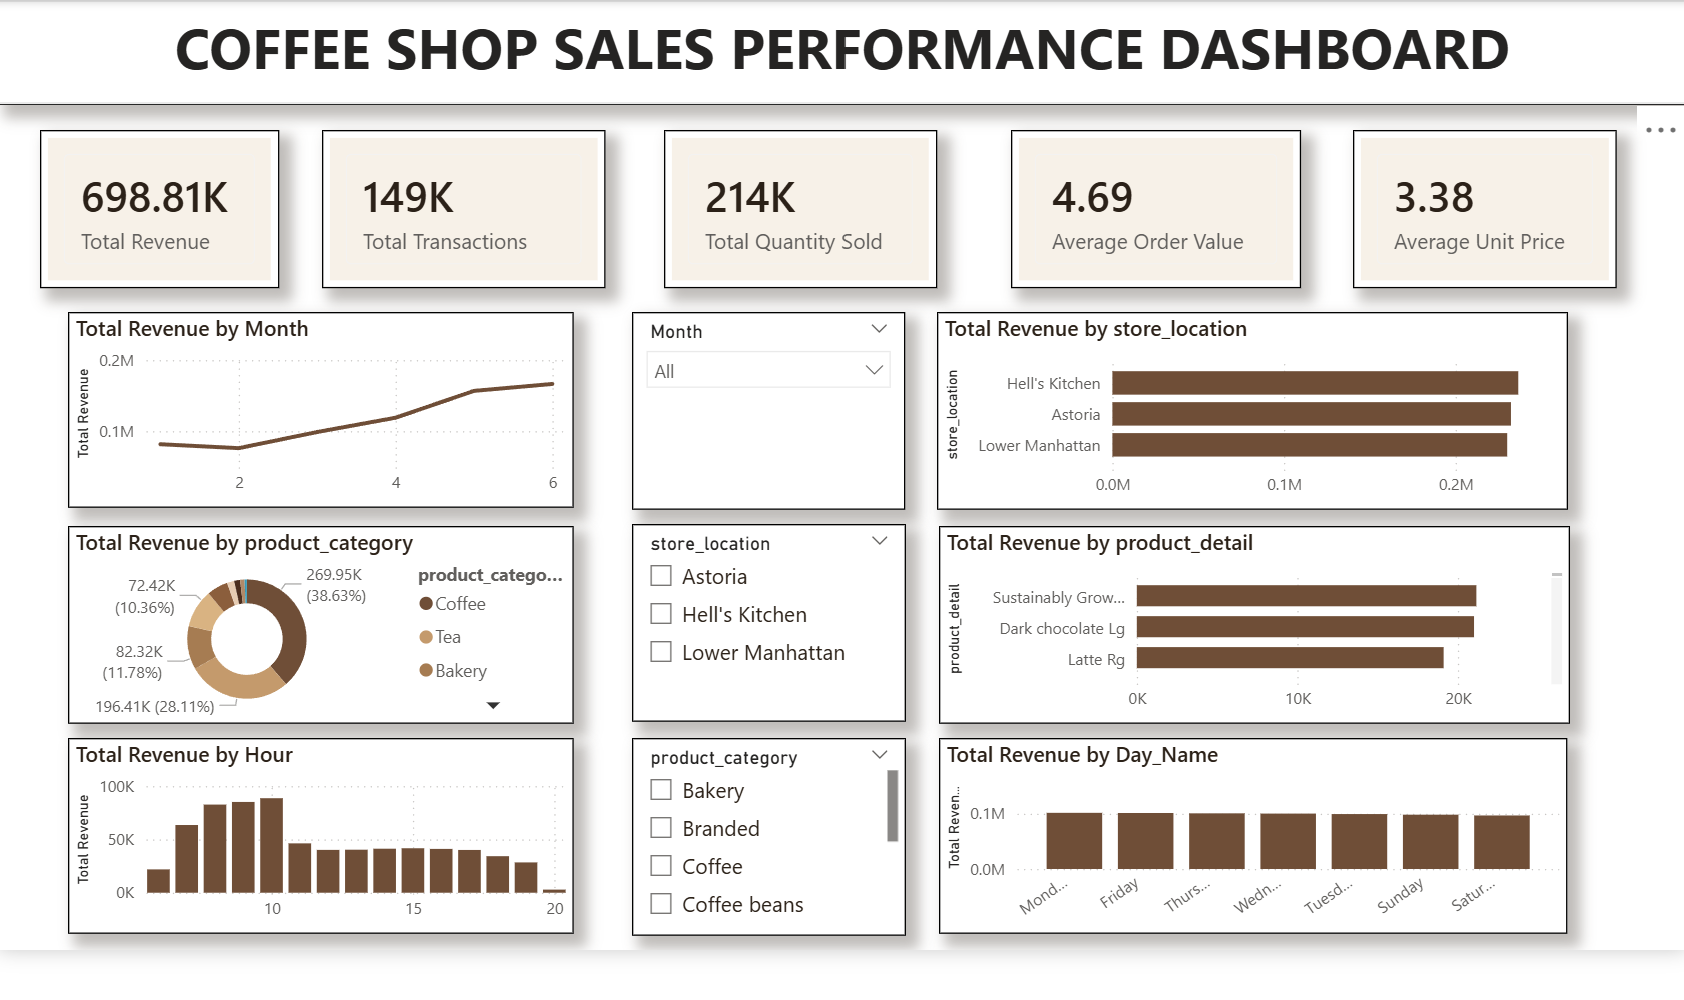

Layout of this report page (visuals, bound fields, positions):
{"tool":"powerbi","page":{"name":"Page 1","canvas":[1280,720],"ordinal":0},"visuals":[{"type":"textbox","box":[0,0,1280,79.5],"z":0},{"type":"cardVisual","fields":{"Data":["Transactions.Total Revenue"]},"box":[31.7,98.3,181.7,120],"z":1000},{"type":"cardVisual","fields":{"Data":["Transactions.Total Transactions"]},"box":[245,98.3,215,120],"z":2000},{"type":"cardVisual","fields":{"Data":["Transactions.Total Quantity Sold"]},"box":[505,98.3,206.7,120],"z":3000},{"type":"cardVisual","fields":{"Data":["Transactions.Average Order Value"]},"box":[766.7,98.3,220,120],"z":4000},{"type":"cardVisual","fields":{"Data":["Transactions.Average Unit Price"]},"box":[1026.7,98.3,200,120],"z":5000},{"type":"lineChart","fields":{"Category":["Transactions.Month"],"Y":["Transactions.Total Revenue"]},"box":[53.3,236.7,383.3,148.3],"z":6000},{"type":"clusteredBarChart","fields":{"Category":["Transactions.store_location"],"Y":["Transactions.Total Revenue"]},"box":[711.7,236.7,478.3,150],"z":7000},{"type":"donutChart","fields":{"Category":["Transactions.product_category"],"Y":["Transactions.Total Revenue"]},"box":[53.3,398.3,383.3,150],"z":8000},{"type":"clusteredBarChart","fields":{"Category":["Transactions.product_detail"],"Y":["Transactions.Total Revenue"]},"box":[713.3,398.3,478.3,150],"z":9000},{"type":"columnChart","fields":{"Category":["Transactions.Hour"],"Y":["Transactions.Total Revenue"]},"box":[53.3,560,383.3,148.3],"z":10000},{"type":"columnChart","fields":{"Y":["Transactions.Total Revenue"],"Category":["Transactions.Day_Name"]},"box":[713.3,560,476.7,148.3],"z":11000},{"type":"slicer","fields":{"Values":["Transactions.Month"]},"box":[480,236.7,206.7,150],"z":12000},{"type":"slicer","fields":{"Values":["Transactions.store_location"]},"box":[480,398,207,150],"z":13000},{"type":"slicer","fields":{"Values":["Transactions.product_category"]},"box":[480,560,207,150],"z":14000}]}

Visuals, with their boxes in screenshot pixels (x1, y1, x2, y2):
textbox: {"x1": 9, "y1": 4, "x2": 1669, "y2": 108}
cardVisual - Transactions.Total Revenue: {"x1": 50, "y1": 132, "x2": 286, "y2": 288}
cardVisual - Transactions.Total Transactions: {"x1": 327, "y1": 132, "x2": 606, "y2": 288}
cardVisual - Transactions.Total Quantity Sold: {"x1": 664, "y1": 132, "x2": 932, "y2": 288}
cardVisual - Transactions.Average Order Value: {"x1": 1004, "y1": 132, "x2": 1289, "y2": 288}
cardVisual - Transactions.Average Unit Price: {"x1": 1341, "y1": 132, "x2": 1600, "y2": 288}
lineChart - Transactions.Month x Transactions.Total Revenue: {"x1": 78, "y1": 311, "x2": 575, "y2": 504}
clusteredBarChart - Transactions.store_location x Transactions.Total Revenue: {"x1": 932, "y1": 311, "x2": 1553, "y2": 506}
donutChart - Transactions.product_category x Transactions.Total Revenue: {"x1": 78, "y1": 521, "x2": 575, "y2": 716}
clusteredBarChart - Transactions.product_detail x Transactions.Total Revenue: {"x1": 934, "y1": 521, "x2": 1555, "y2": 716}
columnChart - Transactions.Hour x Transactions.Total Revenue: {"x1": 78, "y1": 731, "x2": 575, "y2": 923}
columnChart - Transactions.Total Revenue x Transactions.Day_Name: {"x1": 934, "y1": 731, "x2": 1553, "y2": 923}
slicer - Transactions.Month: {"x1": 632, "y1": 311, "x2": 900, "y2": 506}
slicer - Transactions.store_location: {"x1": 632, "y1": 521, "x2": 900, "y2": 715}
slicer - Transactions.product_category: {"x1": 632, "y1": 731, "x2": 900, "y2": 926}
